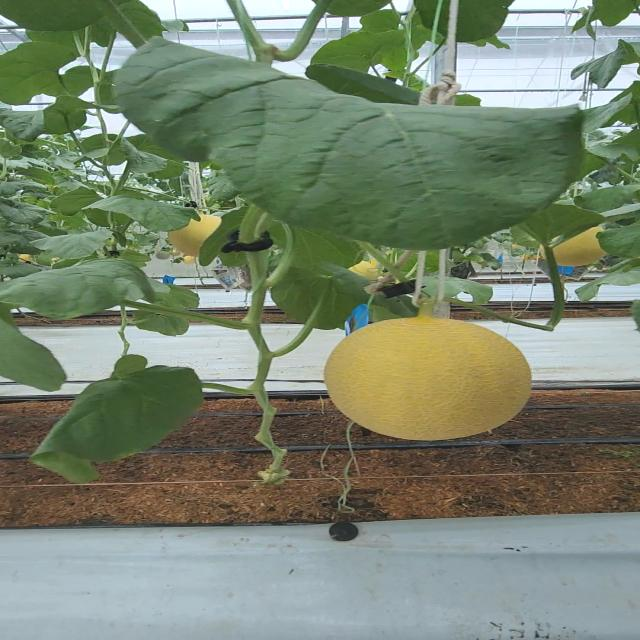Melon: (322, 312, 543, 441)
